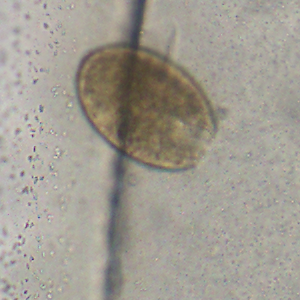Fasciola_hepatica_egg: (72, 40, 220, 175)
